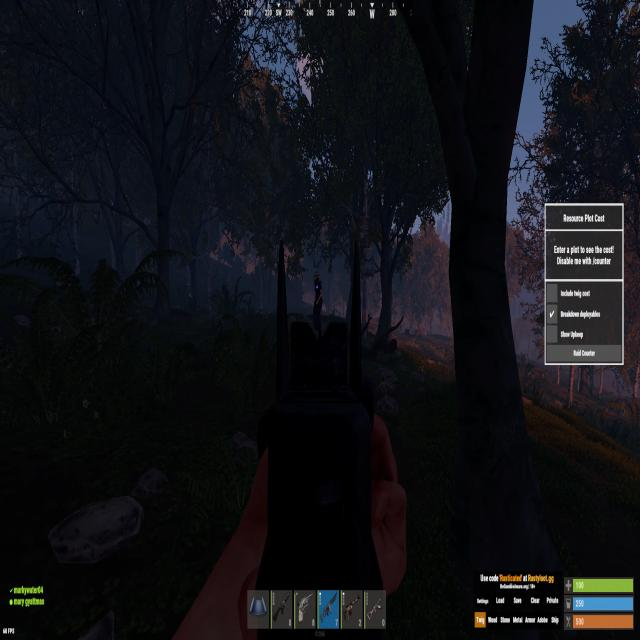Player: (312, 272, 323, 334)
